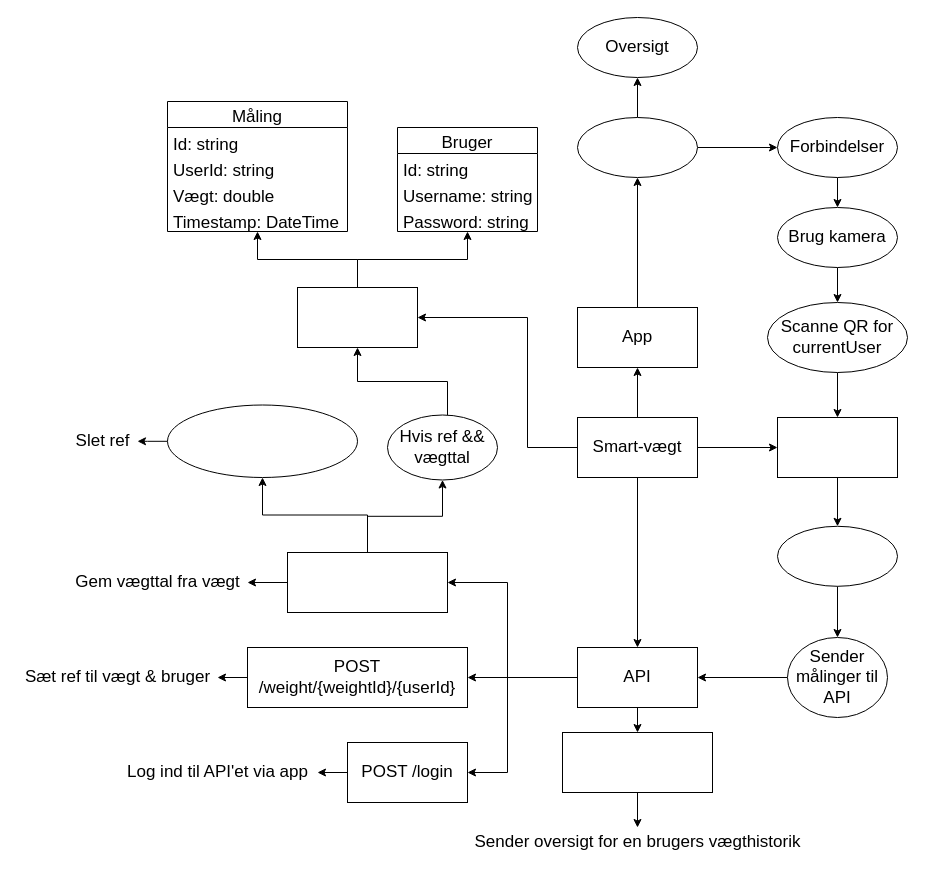
Image size: 925x875. Some labels were removed from this diagram. Here are the shapes that lost their labels. From the top down, the centre of each, then its label:
the point at 637,147: Login
the point at 357,317: DB
the point at 262,441: Hvis !ref || !vægttal indenfor 10 minutter
the point at 837,447: Emb
the point at 837,555: Måler vægt
the point at 367,582: POST /weight/{weightId}
the point at 637,762: GET /overview/{userId}
